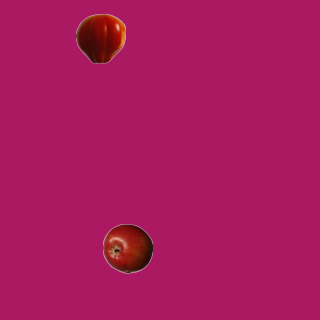Apple Braeburn: (102, 223, 152, 273)
Tomato 1: (75, 13, 125, 63)
